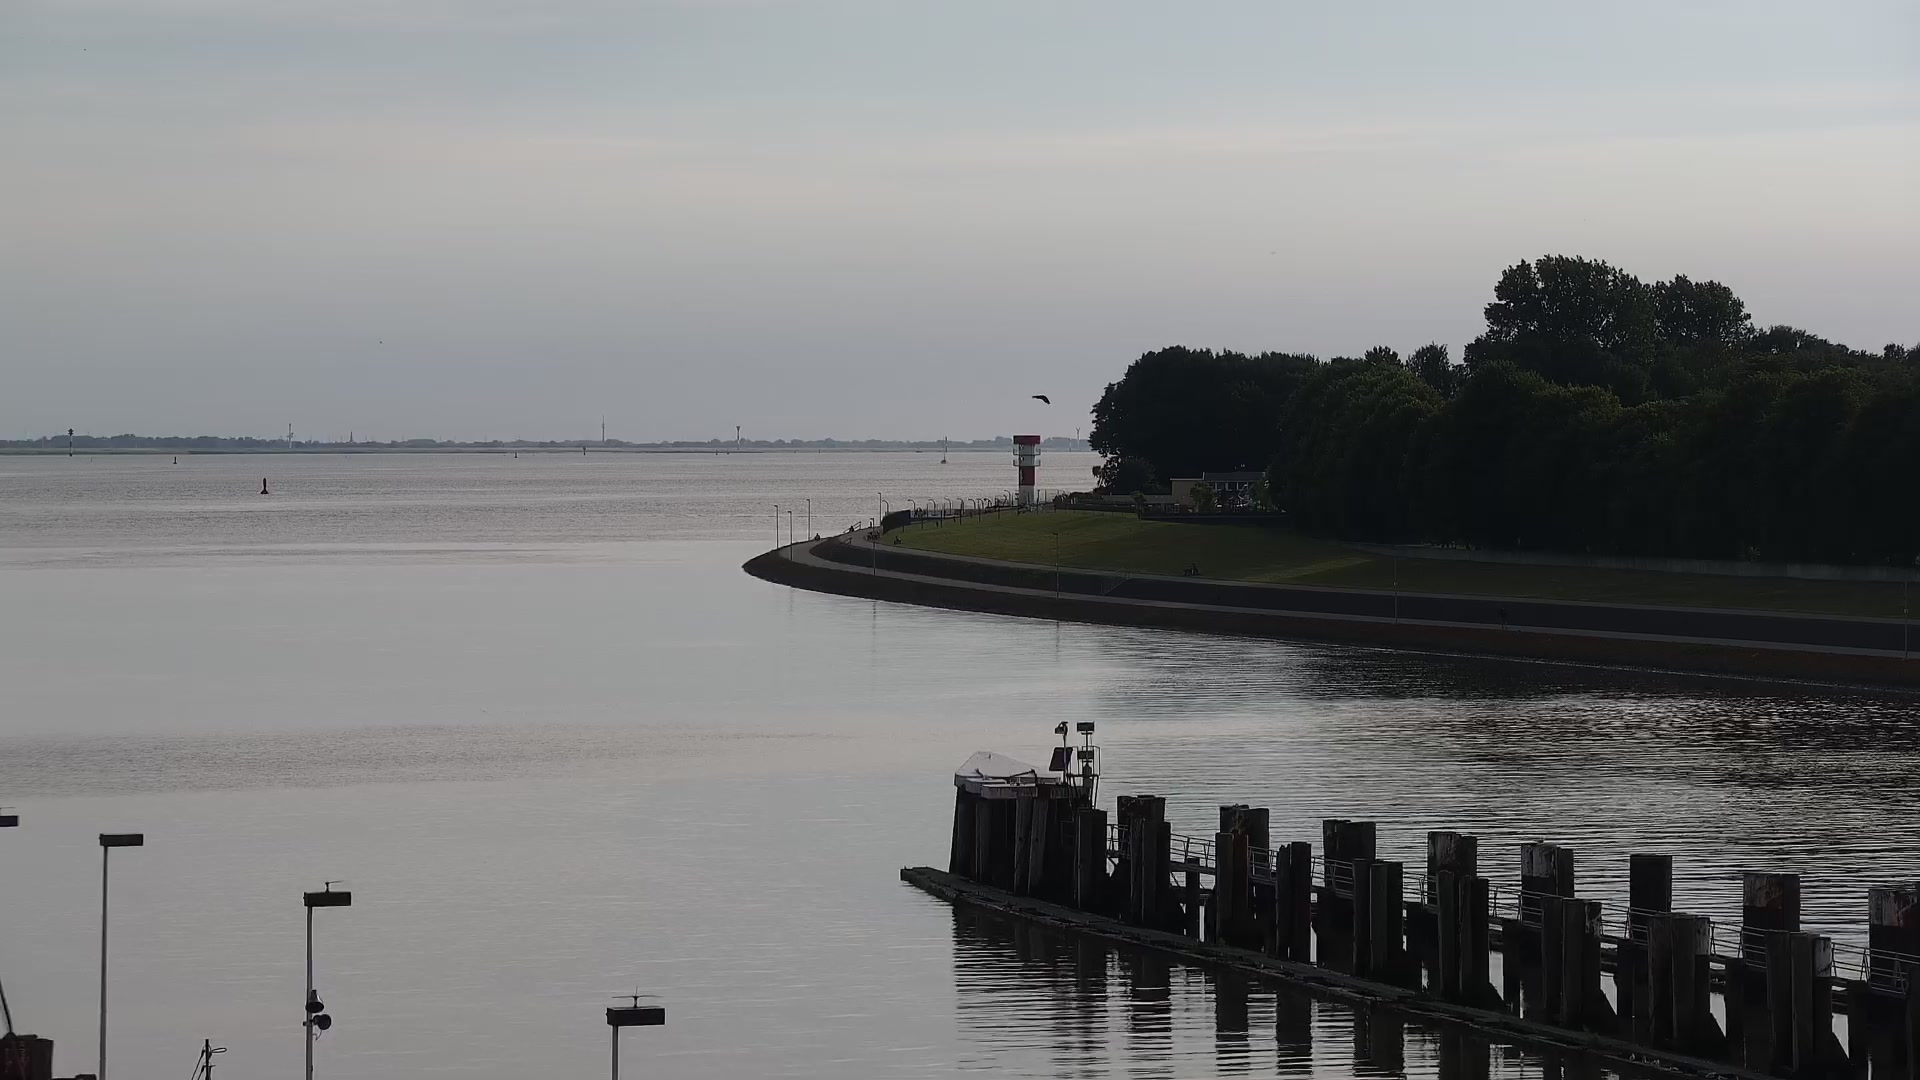human: (1499, 605, 1509, 630), (1183, 563, 1198, 576), (813, 531, 820, 547), (917, 505, 923, 517), (893, 535, 900, 546), (913, 508, 918, 519), (848, 524, 854, 532), (923, 508, 928, 516)
